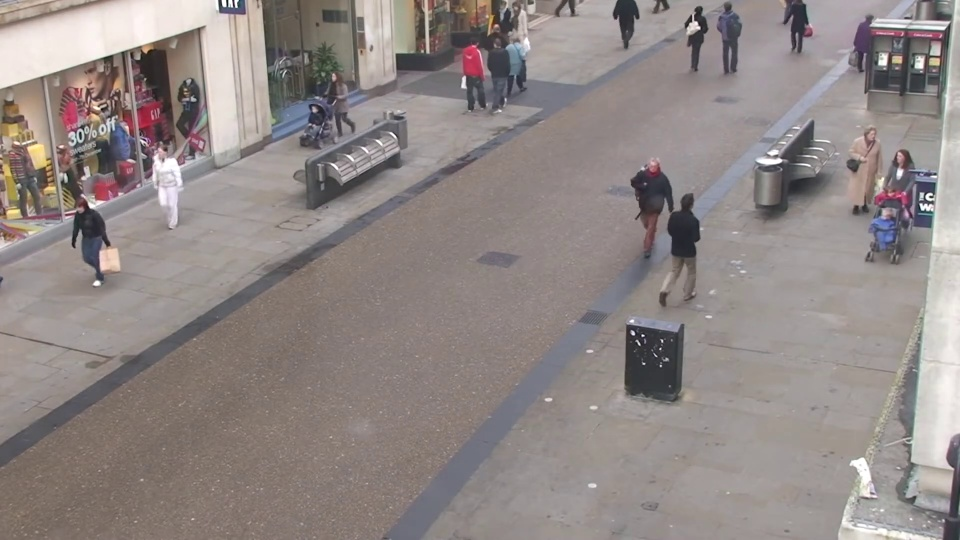pedestrian: (53, 197, 106, 311), (857, 202, 906, 323), (874, 146, 920, 253), (676, 180, 714, 294), (844, 126, 886, 227), (139, 145, 181, 246), (632, 154, 667, 261), (294, 101, 328, 192), (317, 69, 347, 150), (852, 10, 885, 82), (487, 33, 513, 106), (466, 34, 492, 106), (509, 30, 534, 102), (487, 21, 512, 90), (717, 0, 741, 66), (687, 3, 711, 68), (502, 1, 525, 64), (488, 0, 511, 63)
